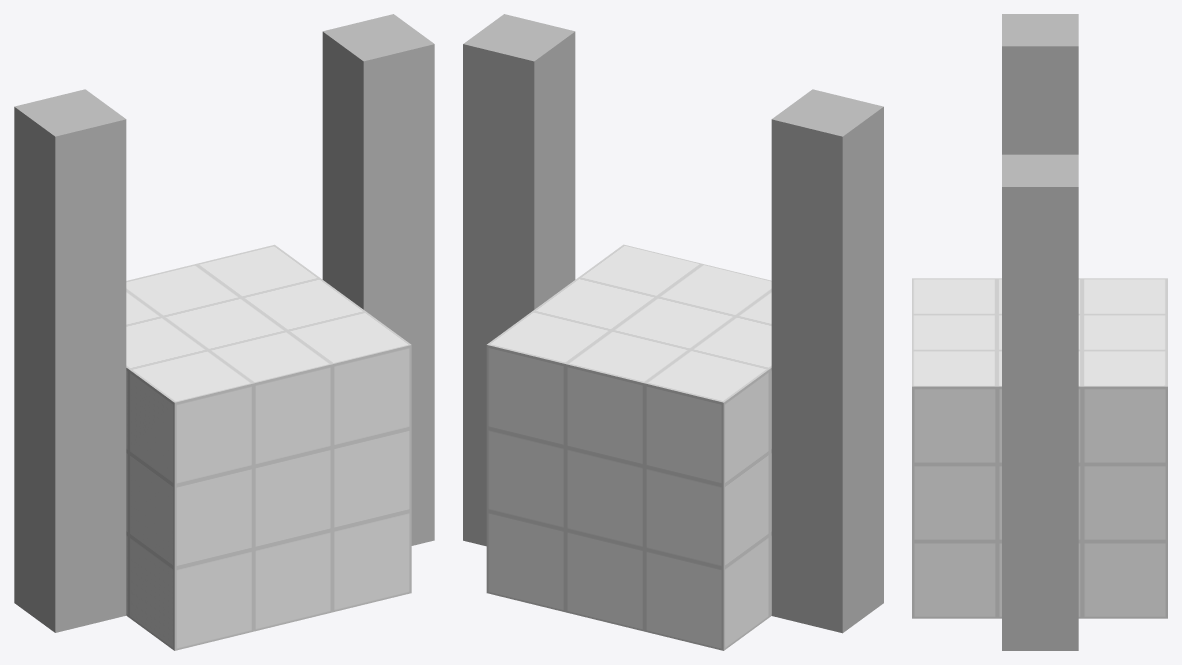
File: gate.fbx
The picture shows the model from 3 angles, left to right: view 1: azimuth 30°, elevation 25°; view 2: azimuth 150°, elevation 25°; view 3: azimuth 270°, elevation 25°; orthographic projection. The views are drawn at different scales.
Parts seen in each view (by area): view 1: pCube4, pCube6, pCube5; view 2: pCube4, pCube6, pCube5; view 3: pCube4, pCube5, pCube6.
Boxes of the visible parts, <box> form: pCube4: <box>126,244,411,650</box>; pCube6: <box>14,89,126,632</box>; pCube5: <box>322,14,434,545</box>; pCube4: <box>486,244,771,650</box>; pCube6: <box>771,89,883,633</box>; pCube5: <box>463,14,575,546</box>; pCube4: <box>912,278,1167,618</box>; pCube5: <box>1002,154,1078,650</box>; pCube6: <box>1002,14,1078,154</box>.
Bounding box in the file's own units: 1.6 × 2 × 1.
